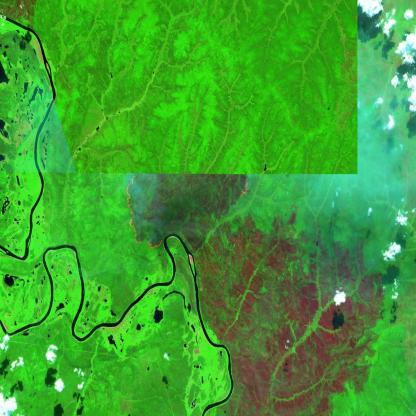fire: (123, 167, 167, 256)
